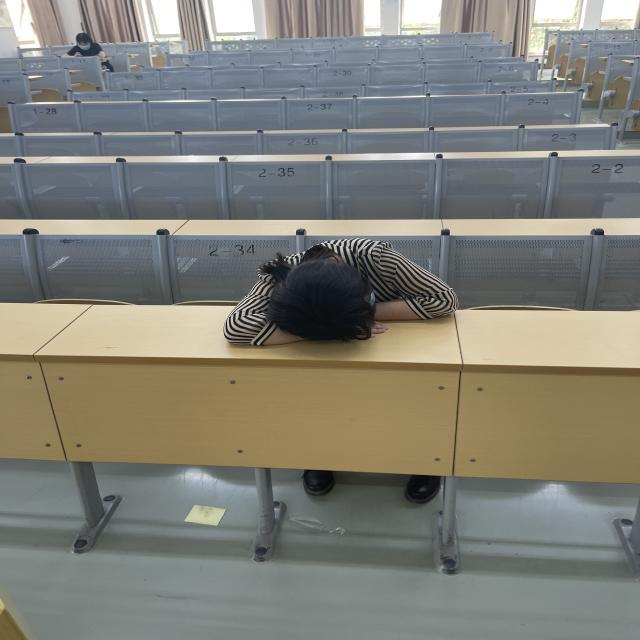sleep: (222, 232, 455, 350)
study: (72, 32, 107, 72)
